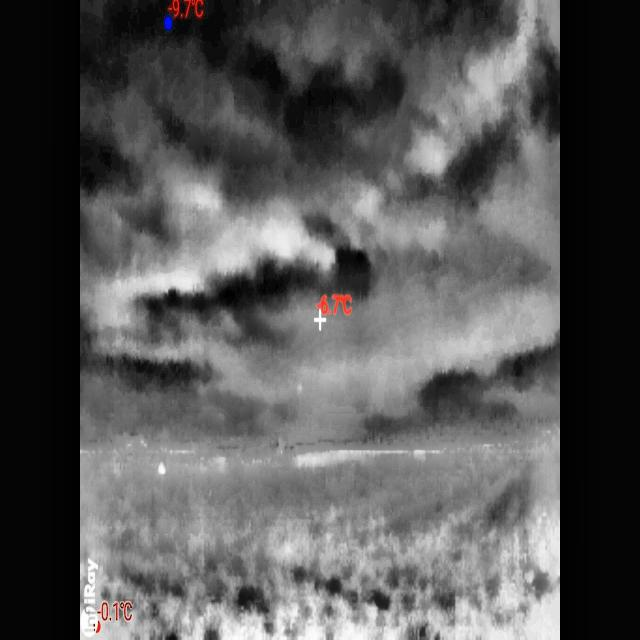drone: (156, 462, 166, 477)
